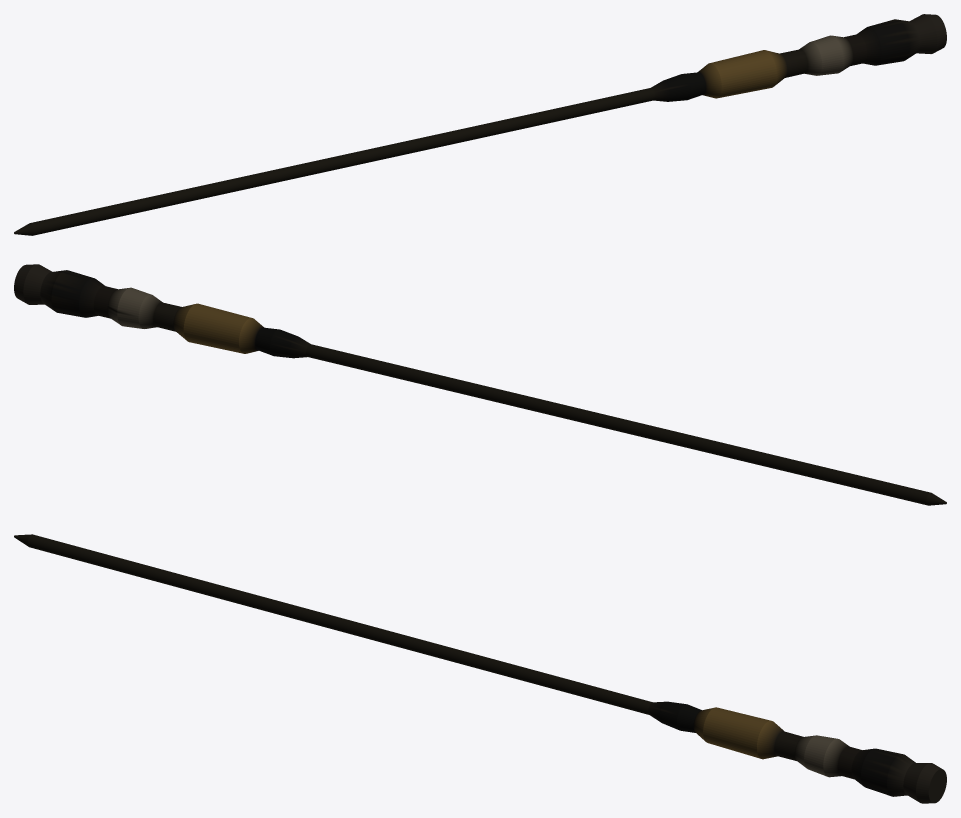
The model's file is needle_structured_tail_reconstruction.obj.
3 views of the same model, one above another, from view 1: azimuth 30°, elevation 25°; view 2: azimuth 150°, elevation 25°; view 3: azimuth 330°, elevation 25° (orthographic). The views are drawn at different scales.
Bounding box in the file's own units: 0.1008 × 0.00411 × 0.00451.
